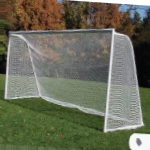goals: (3, 26, 145, 132)
